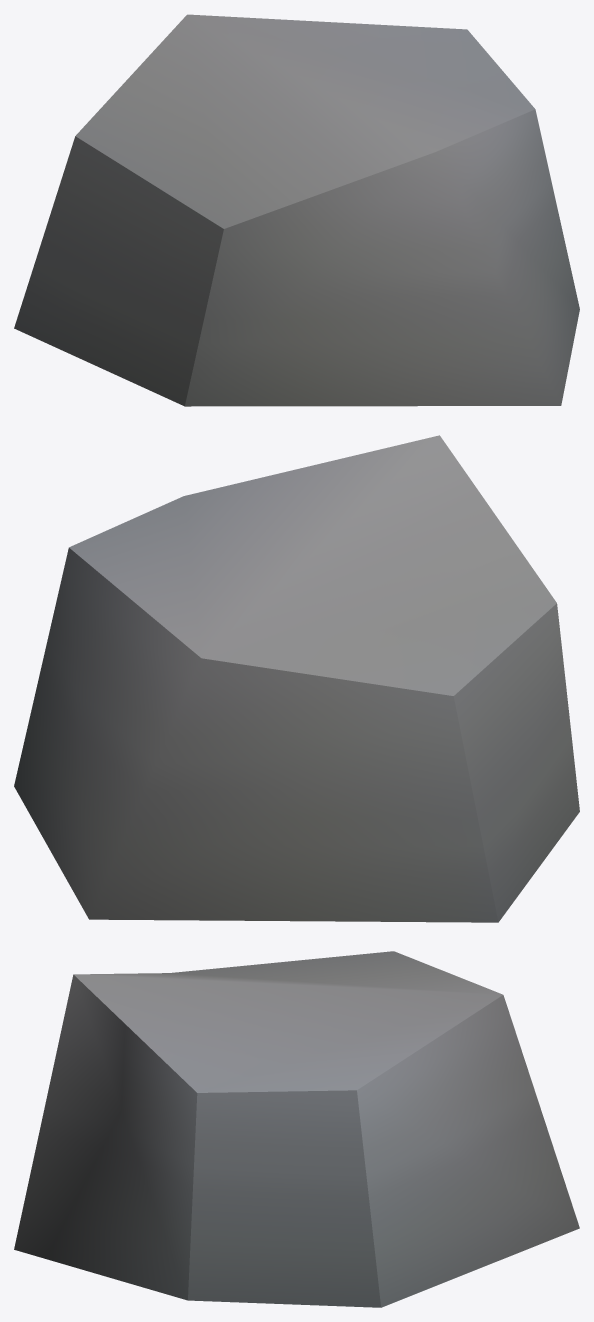
3 renders of one model, top to bottom at view 1: azimuth 30°, elevation 25°; view 2: azimuth 150°, elevation 25°; view 3: azimuth 270°, elevation 25°, orthographic. The views are drawn at different scales.
Visible parts, largest first — view 1: Rock001; view 2: Rock001; view 3: Rock001.
Boxes of the visible parts, x1,y1,x2,y2 form: Rock001: (14, 14, 579, 406); Rock001: (14, 435, 579, 922); Rock001: (14, 951, 579, 1307).
Bounding box in the file's own units: 4.05 × 2.13 × 4.68.
Materials: 1 (1 with a texture image).
